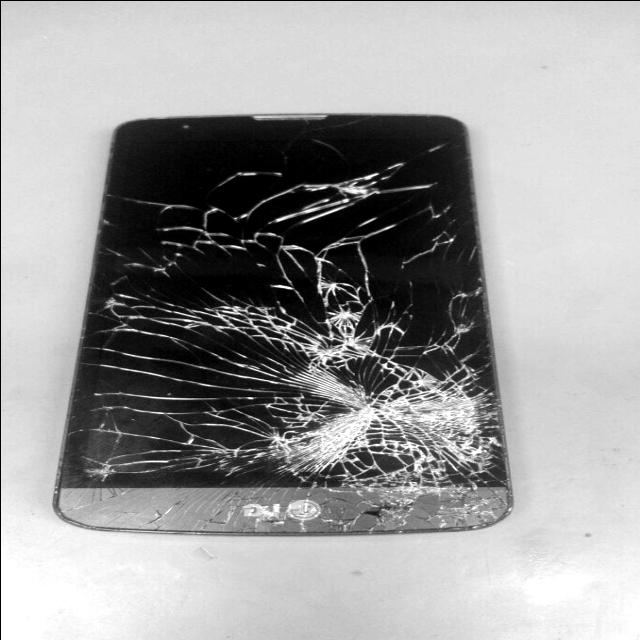Crack: (41, 97, 550, 368), (51, 337, 346, 551), (326, 352, 541, 533)
